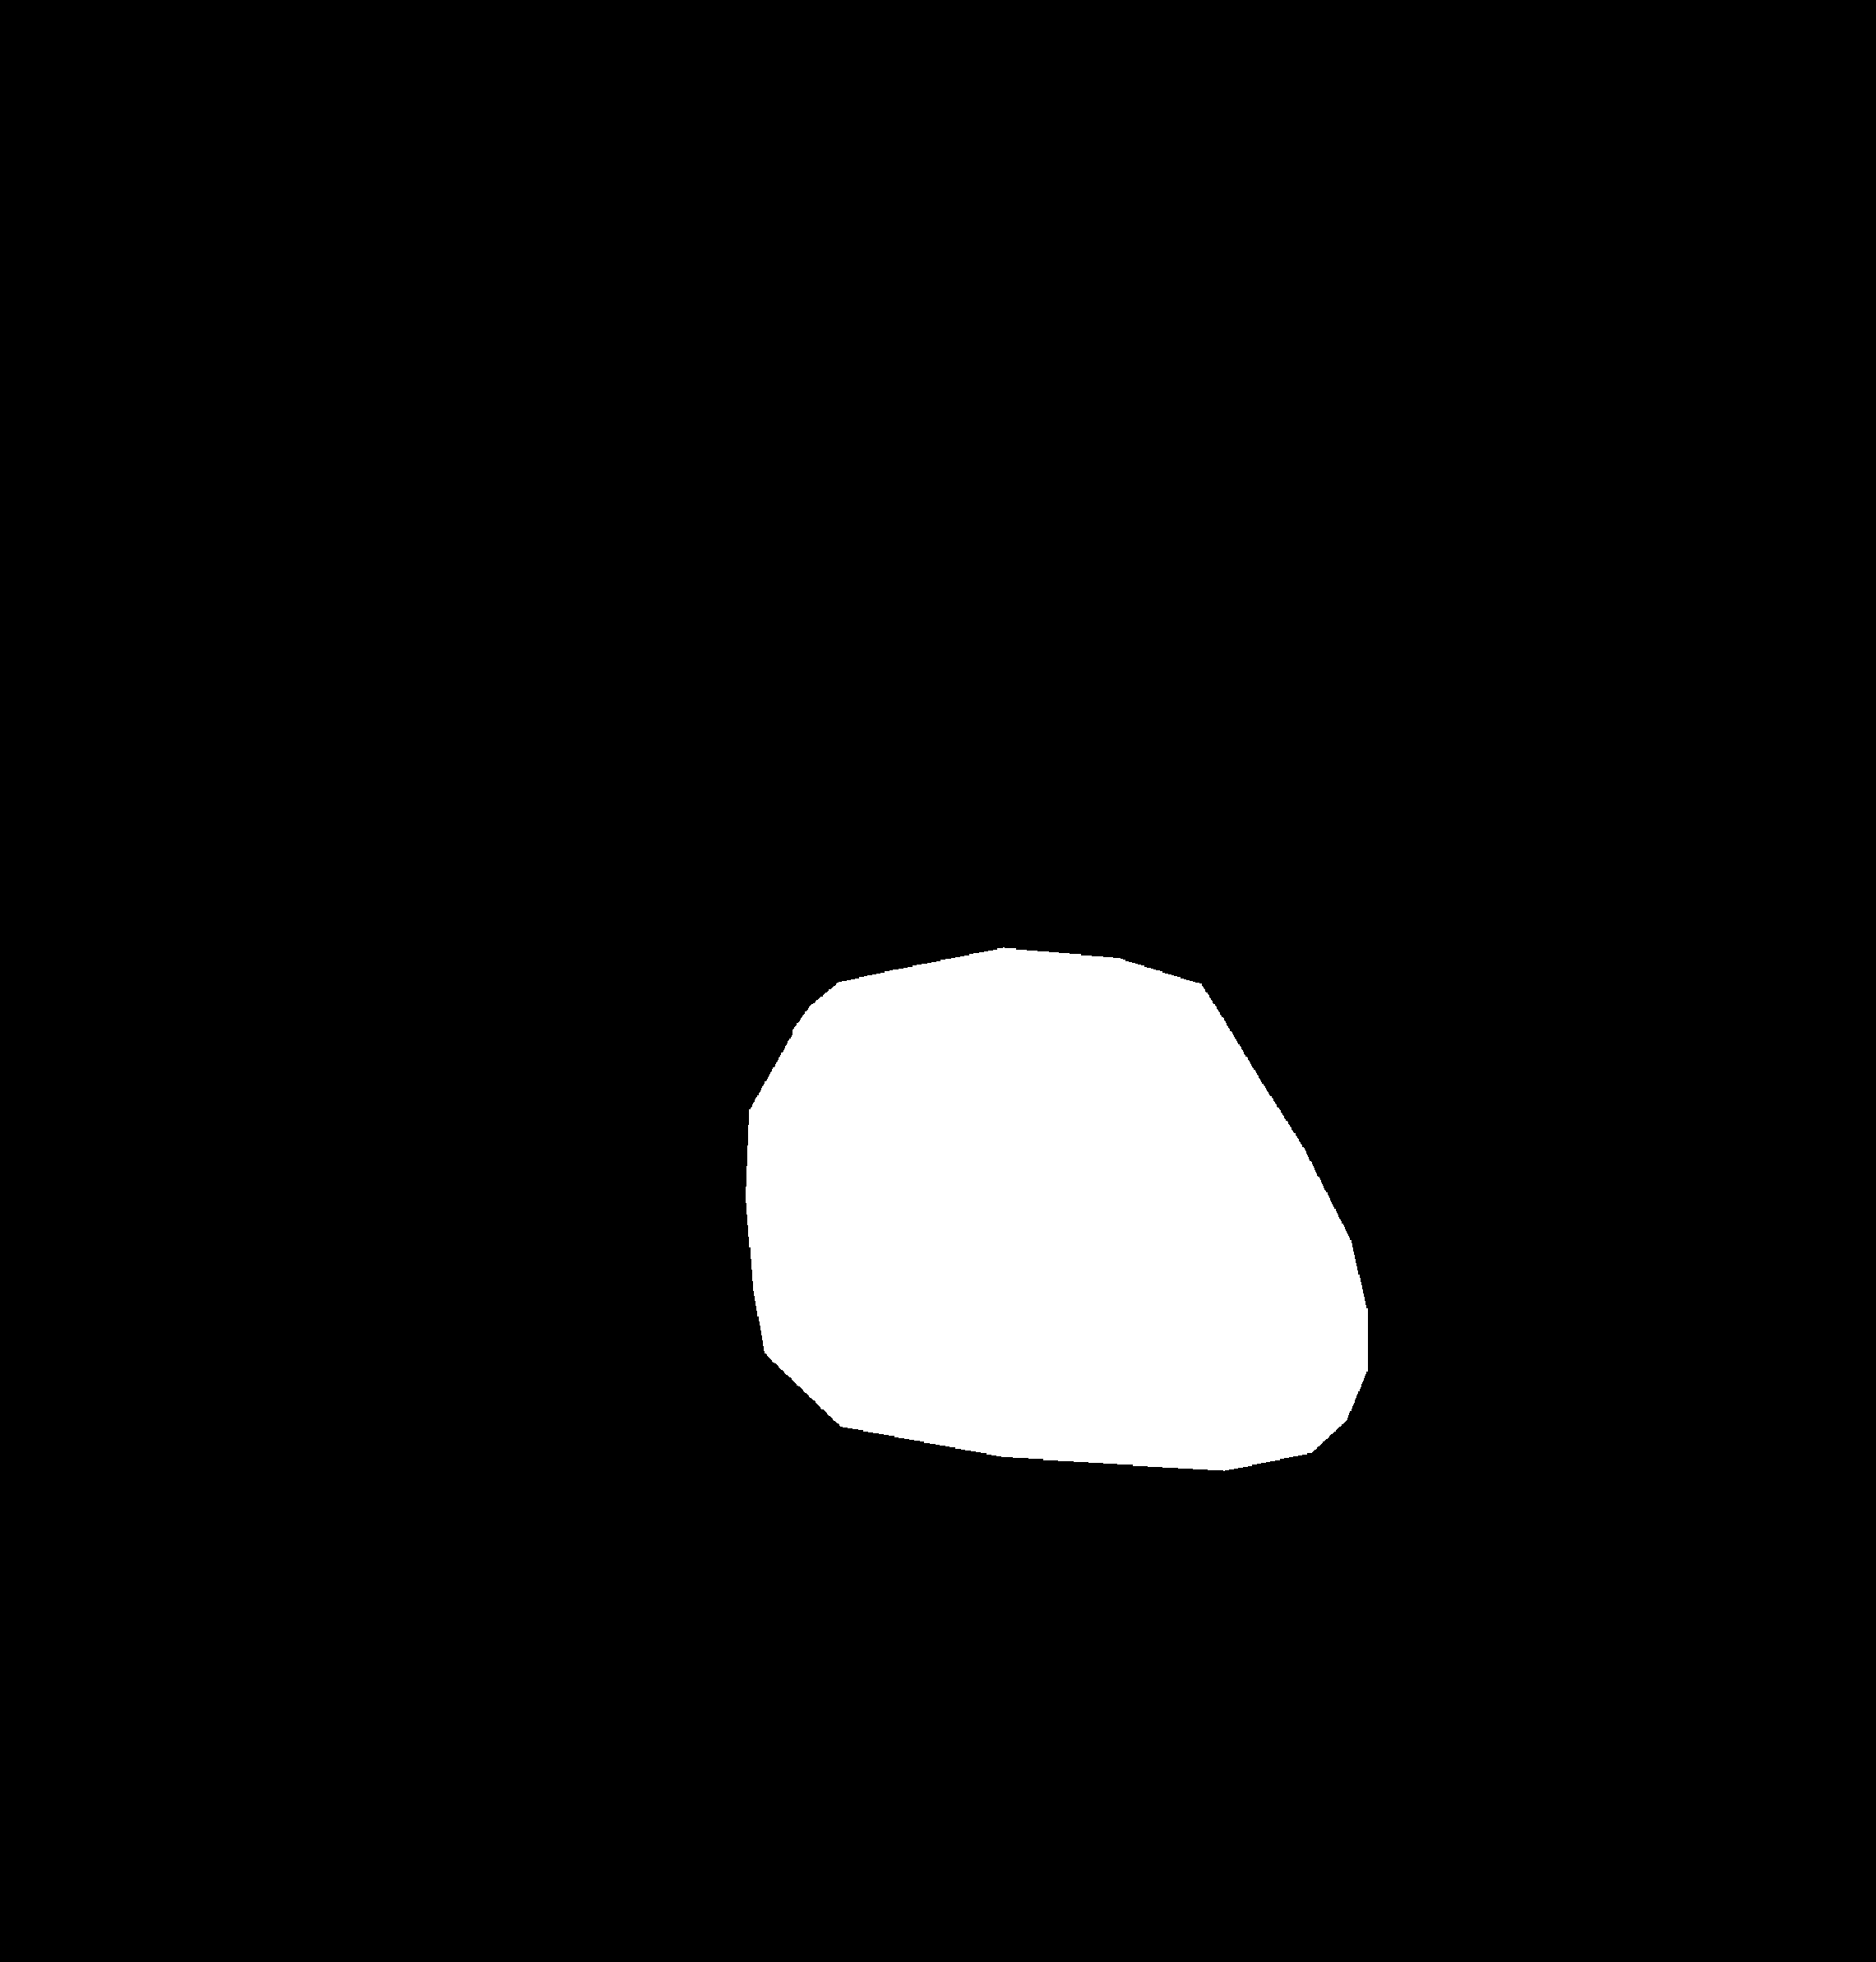heart: (744, 1067, 1375, 1526)
left_lung: (180, 144, 836, 1603)
right_lung: (997, 170, 1647, 1657)
